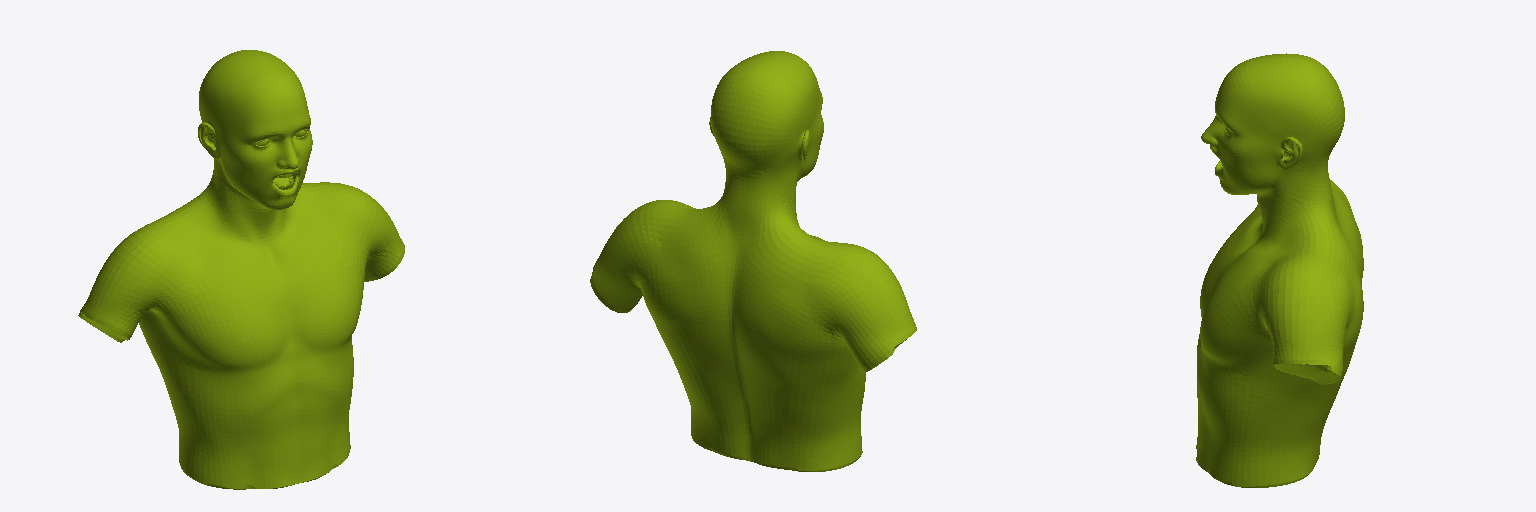
Rendered from MAN.obj.
The picture shows the model from 3 angles: view 1: azimuth 30°, elevation 25°; view 2: azimuth 150°, elevation 25°; view 3: azimuth 270°, elevation 25°; orthographic projection.
Visible parts, largest first — view 1: Genesis_8_Male29; view 2: Genesis_8_Male29; view 3: Genesis_8_Male29.
Part boxes in pixels (left/top/right/bottom): Genesis_8_Male29: left=78, top=50, right=404, bottom=489; Genesis_8_Male29: left=590, top=51, right=916, bottom=471; Genesis_8_Male29: left=1196, top=53, right=1363, bottom=487.
Bounding box in the file's own units: 48.8 × 58.92 × 22.6.